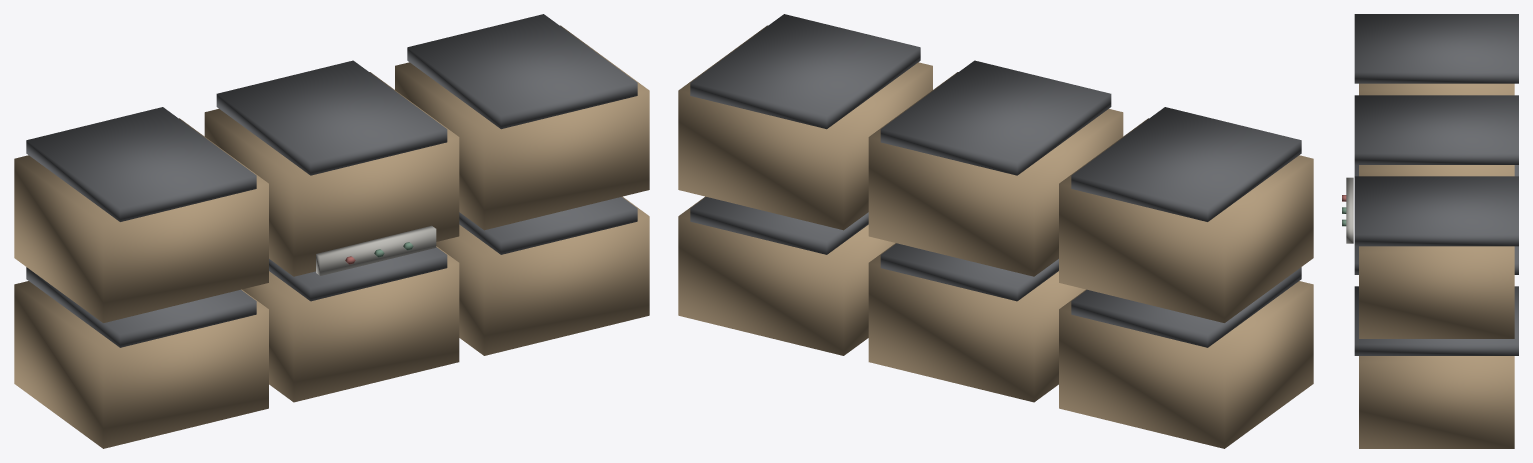
Rendered from market_produce_rack__squat.glb.
3 views of the same model, side by side, from view 1: azimuth 30°, elevation 25°; view 2: azimuth 150°, elevation 25°; view 3: azimuth 270°, elevation 25° (orthographic). The views are drawn at different scales.
Parts seen in each view (by area): view 1: world; view 2: world; view 3: world.
Part boxes in pixels (left/top/right/bottom): world: left=14, top=14, right=649, bottom=448; world: left=678, top=14, right=1313, bottom=448; world: left=1342, top=14, right=1518, bottom=448.
Size of the model in its own units: 1.45 by 0.6048 by 0.4655.
